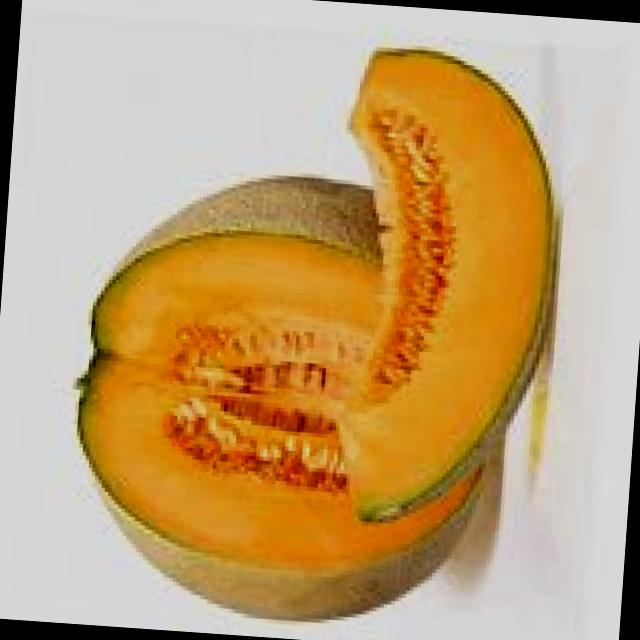cantaloupe: (62, 162, 501, 630), (317, 42, 570, 530)
